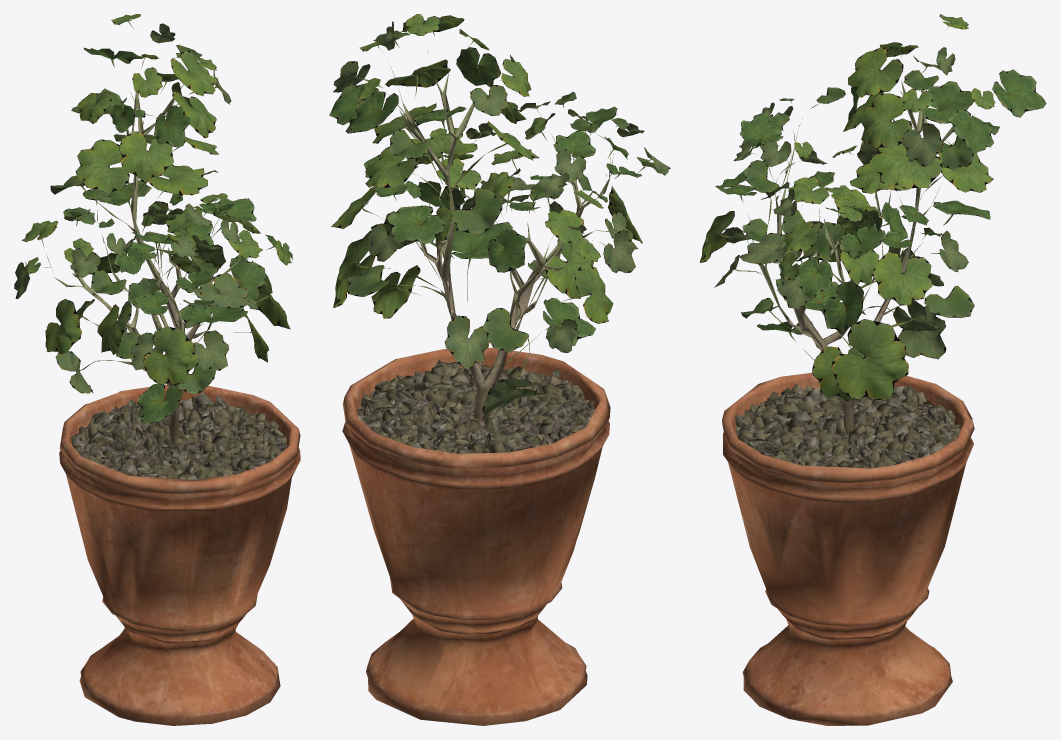
Rendered from potted-ficus.1e04295121.glb.
3 renders of one model, left to right at view 1: azimuth 30°, elevation 25°; view 2: azimuth 150°, elevation 25°; view 3: azimuth 270°, elevation 25°, orthographic. The views are drawn at different scales.
Parts seen in each view (by area): view 1: potted_plant_01_stem, potted_plant_01_leaves; view 2: potted_plant_01_stem, potted_plant_01_leaves; view 3: potted_plant_01_stem, potted_plant_01_leaves.
Boxes of the visible parts, box(x1,y1,x2,y2) form: potted_plant_01_stem: box(54, 91, 300, 725); potted_plant_01_leaves: box(14, 14, 292, 423); potted_plant_01_stem: box(342, 72, 610, 725); potted_plant_01_leaves: box(329, 14, 670, 413); potted_plant_01_stem: box(722, 80, 974, 725); potted_plant_01_leaves: box(699, 14, 1046, 400).
Size of the model in its own units: 0.5866 by 1.34 by 0.6336.
2 materials, 2 textured.
